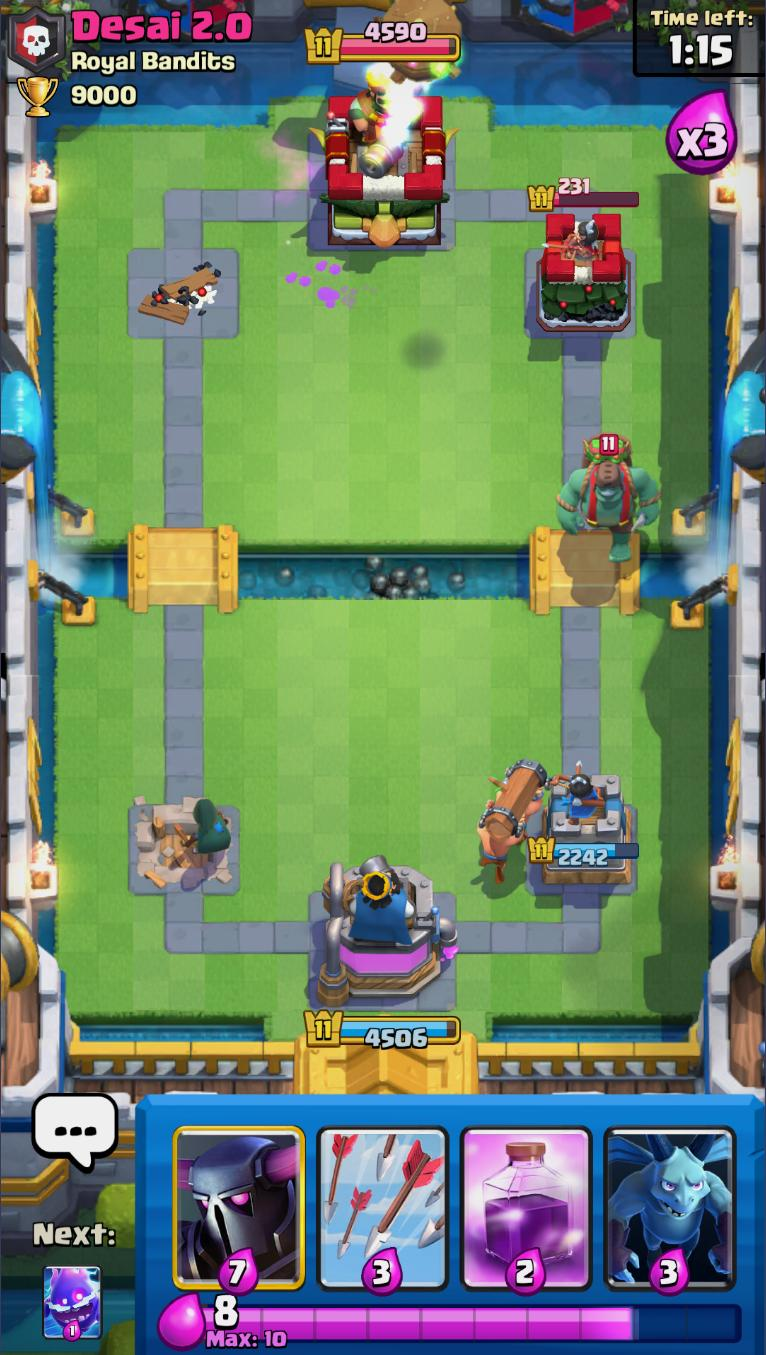ArrowDeck: (311, 1098, 454, 1300)
ElectroSpiritNext: (42, 1265, 104, 1342)
Elixir: (202, 1297, 745, 1350)
EnemyTower: (536, 212, 634, 333)
EnemyTowerBrocken: (129, 245, 236, 336)
GoblinGiant: (557, 432, 661, 562)
KingTower: (308, 66, 462, 250)
KingTowerHP: (304, 22, 460, 65)
MinionsDeck: (601, 1097, 740, 1295)
MyBandit: (173, 794, 233, 857)
MyBattleRam: (472, 755, 550, 884)
MyKingHP: (304, 1007, 462, 1051)
MyKingTower: (317, 854, 459, 1008)
MyPrincessTower: (529, 769, 640, 886)
MyPrincessTowerBrocken: (128, 796, 239, 896)
MyPrincessTowerHP: (528, 837, 640, 869)
PekkaDeck: (169, 1094, 313, 1295)
PrincessTower: (550, 216, 607, 267)
RageDeck: (454, 1096, 600, 1297)
Rocket: (378, 0, 463, 83)
TowerPrincessHP: (529, 178, 641, 212)
